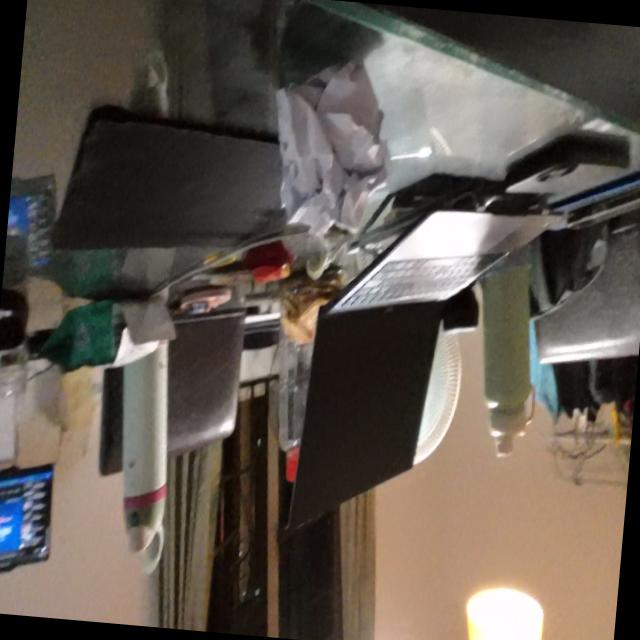crumpled_paper: (259, 45, 401, 241)
